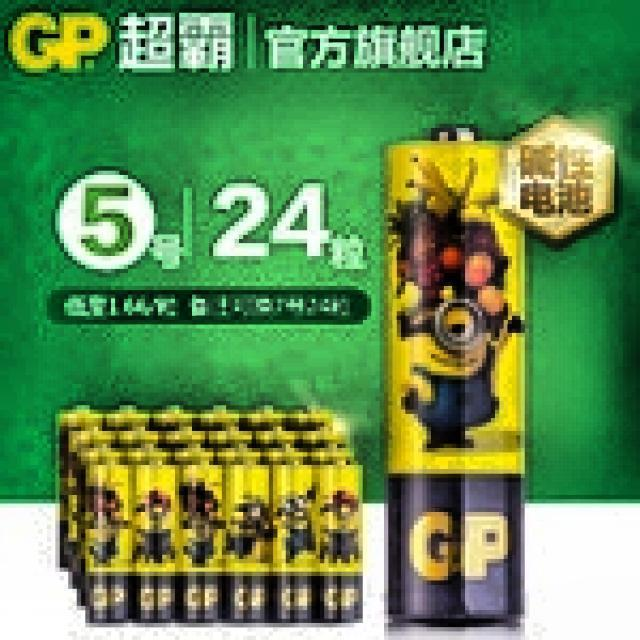battery: (386, 129, 524, 623), (60, 407, 361, 621)
